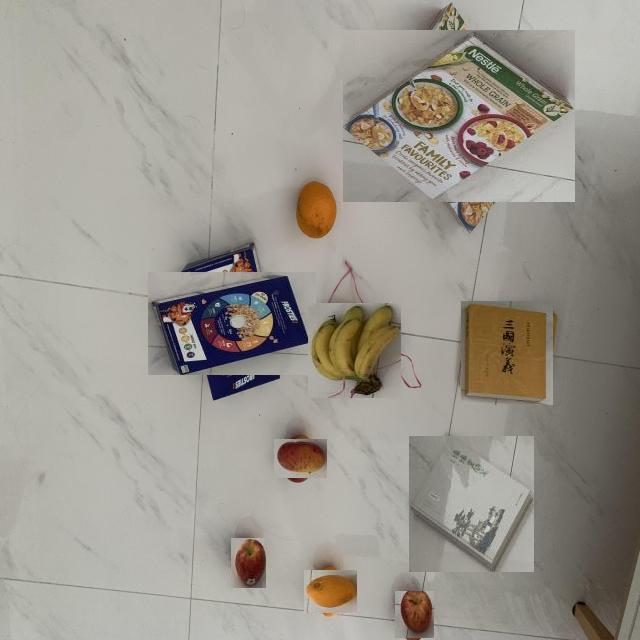Apple: (274, 440, 327, 478), (394, 590, 434, 638), (230, 537, 266, 588)
Banana: (308, 303, 401, 398)
Book: (408, 435, 534, 572), (462, 300, 553, 405)
Cerealbox: (342, 30, 575, 202), (148, 271, 316, 375)
Orange: (295, 178, 338, 238), (303, 570, 357, 613)
